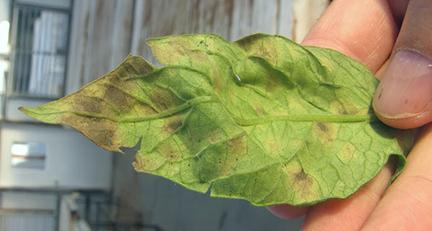Tomato mold leaf: (13, 30, 388, 218)
